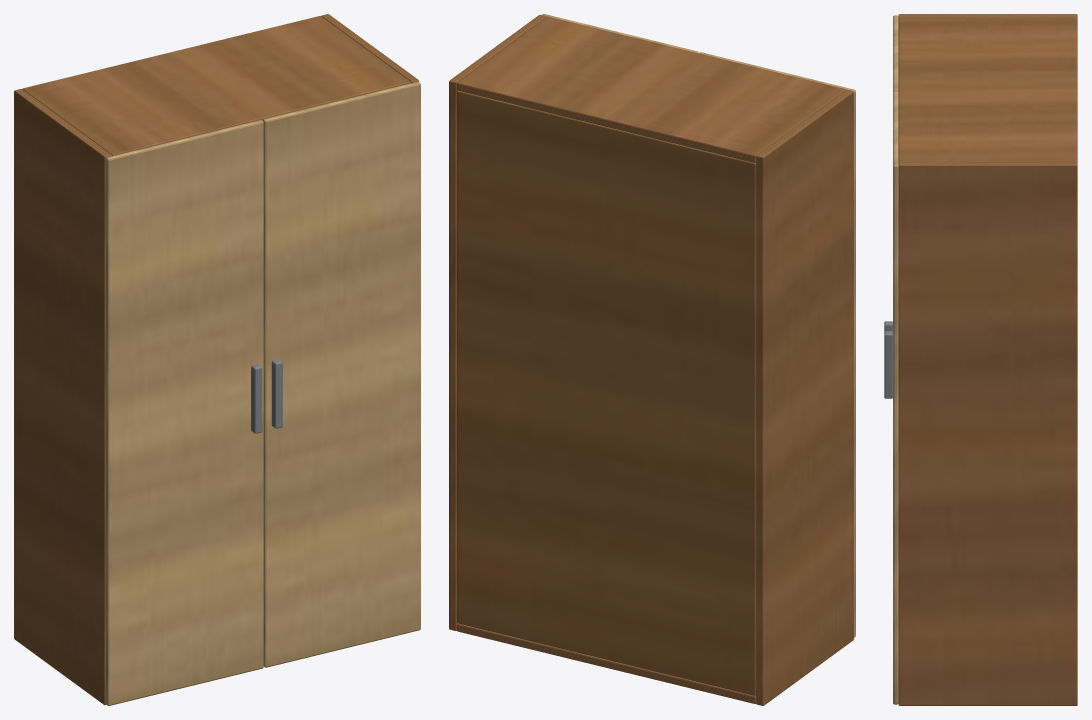
Rendered from wardrobe.glb.
3 views of the same model, side by side, from view 1: azimuth 30°, elevation 25°; view 2: azimuth 150°, elevation 25°; view 3: azimuth 270°, elevation 25° (orthographic).
Parts seen in each view (by area): view 1: part_doorR, part_doorL, wd_body; view 2: wd_body, part_doorL; view 3: wd_body, part_doorR, part_doorL.
Part boxes in pixels (<box>): part_doorR: <box>263,81,420,667</box>; part_doorL: <box>106,120,263,705</box>; wd_body: <box>14,14,418,705</box>; wd_body: <box>449,14,853,705</box>; part_doorL: <box>699,52,855,637</box>; wd_body: <box>898,14,1077,705</box>; part_doorR: <box>884,91,898,704</box>; part_doorL: <box>884,15,898,331</box>.
Size of the model in its own units: 1.2 by 2 by 0.648.
Materials: 10 (6 with a texture image).
